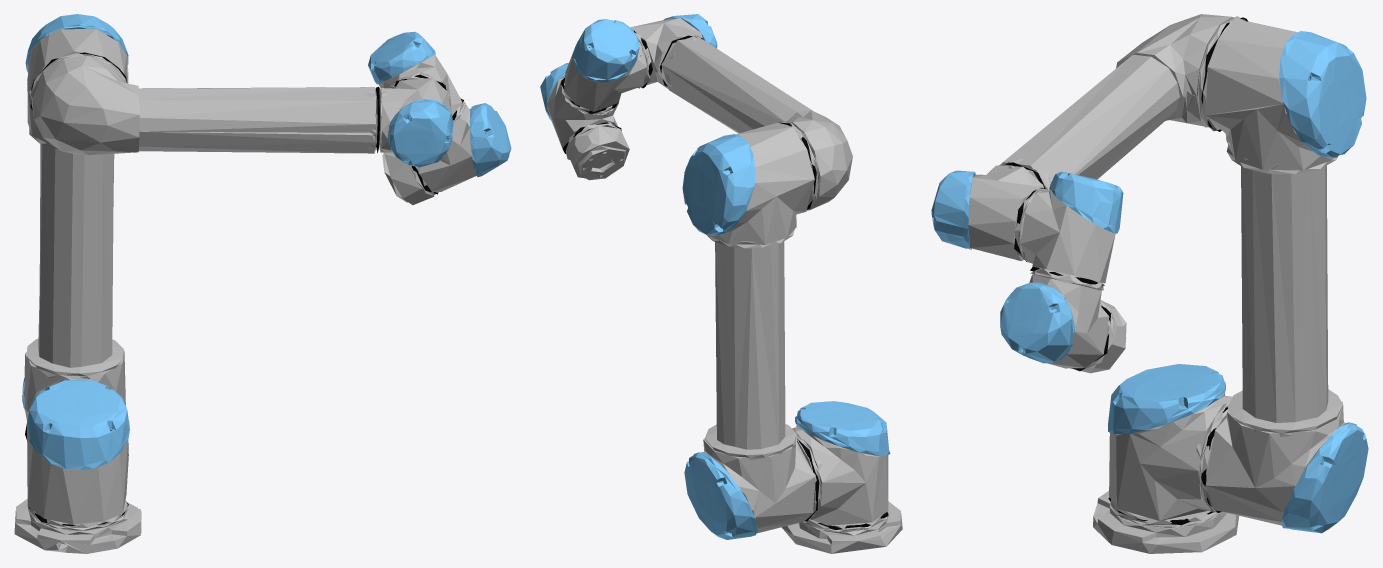
File: robotarm.glb
The picture shows the model from 3 angles, left to right: view 1: azimuth 30°, elevation 25°; view 2: azimuth 150°, elevation 25°; view 3: azimuth 270°, elevation 25°; orthographic projection. The views are drawn at different scales.
Parts seen in each view (by area): view 1: 31008; view 2: 31008; view 3: 31008.
Part boxes in pixels (x1,y1,x2,y2): 31008: (14,14,511,553); 31008: (540,14,902,553); 31008: (931,14,1368,553).
Size of the model in its own units: 0.5784 by 0.575 by 0.4389.
